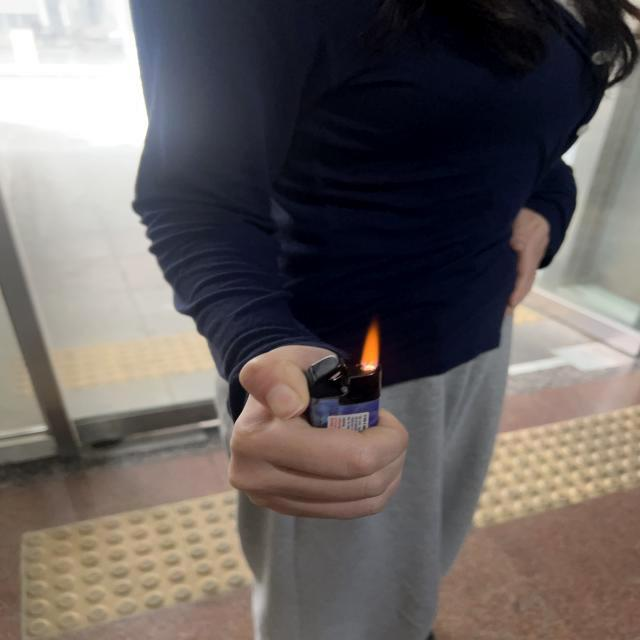fire: (358, 321, 382, 375)
